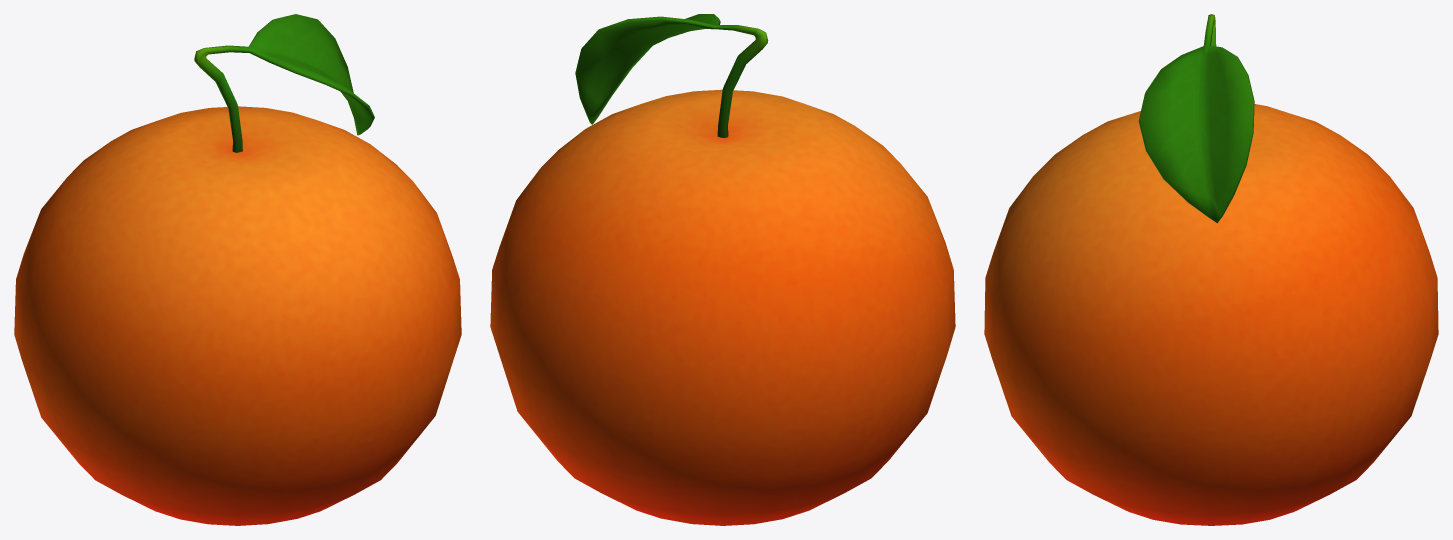
File: Oo-Orange.glb
The picture shows the model from 3 angles, left to right: view 1: azimuth 30°, elevation 25°; view 2: azimuth 150°, elevation 25°; view 3: azimuth 270°, elevation 25°; orthographic projection. The views are drawn at different scales.
Visible parts, largest first — view 1: Orange; view 2: Orange; view 3: Orange.
Boxes of the visible parts, x1,y1,x2,y2 form: Orange: [14, 14, 461, 525]; Orange: [490, 14, 955, 525]; Orange: [984, 14, 1438, 525].
Bounding box in the file's own units: 16.32 × 18.34 × 16.32.
Materials: 1 (1 with a texture image).
